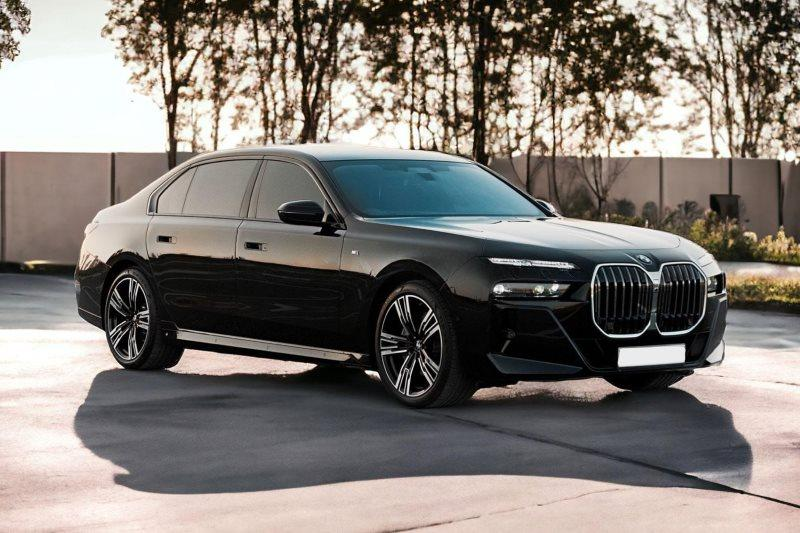Sedan: (57, 127, 760, 413)
